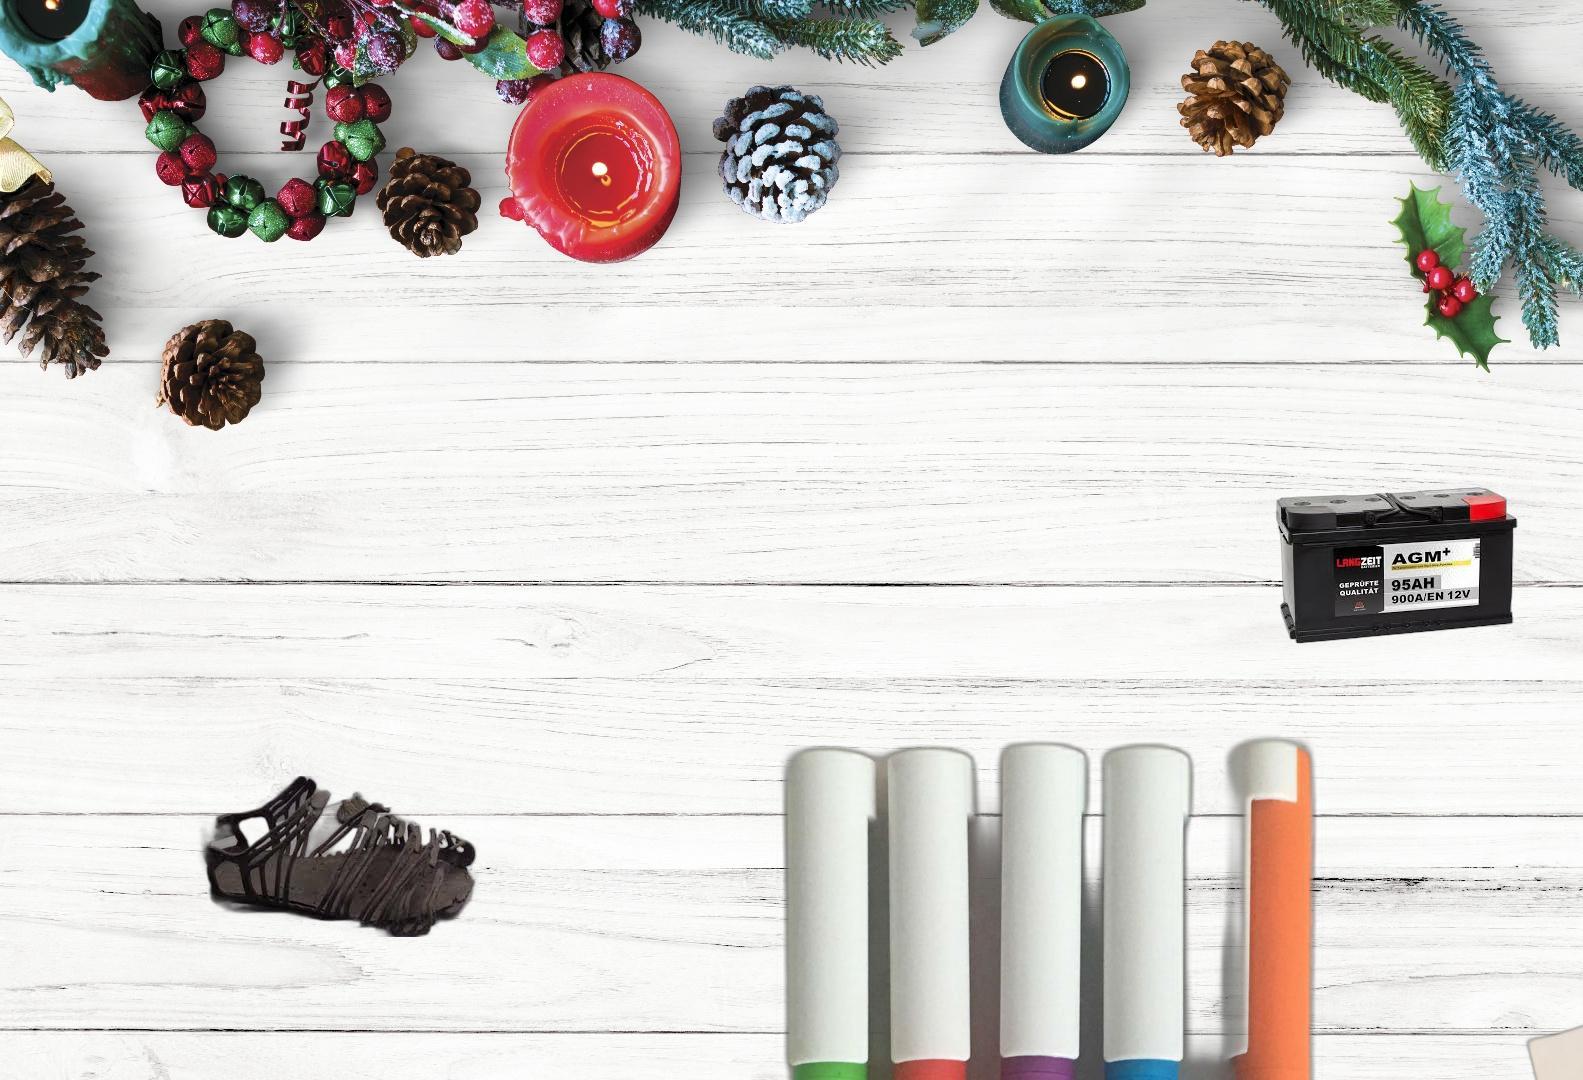battery: (1273, 485, 1520, 646)
paper: (1523, 967, 1583, 1080)
penholder: (701, 726, 1344, 1080)
shoes: (184, 776, 484, 937)
